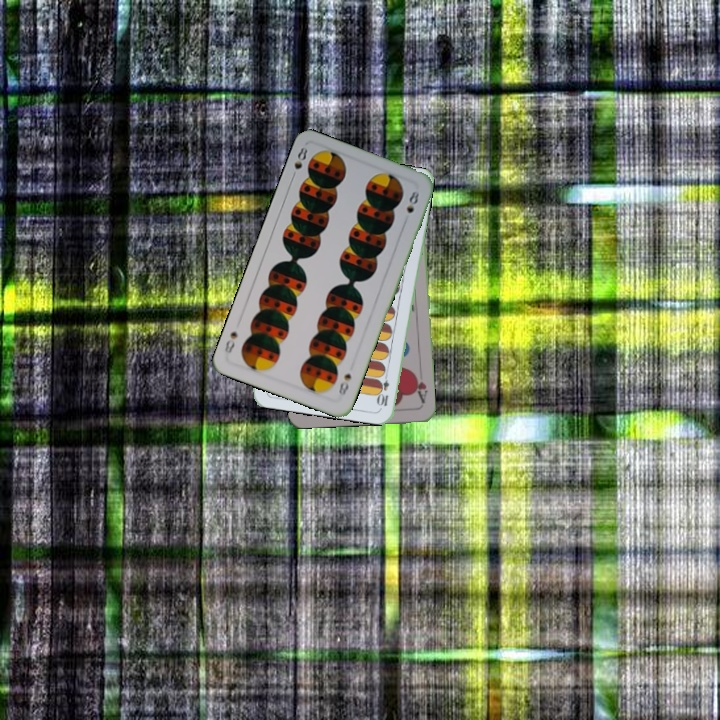E10: (375, 368, 392, 409)
HA: (410, 369, 430, 406)
S8: (287, 143, 310, 182), (334, 369, 354, 398)
